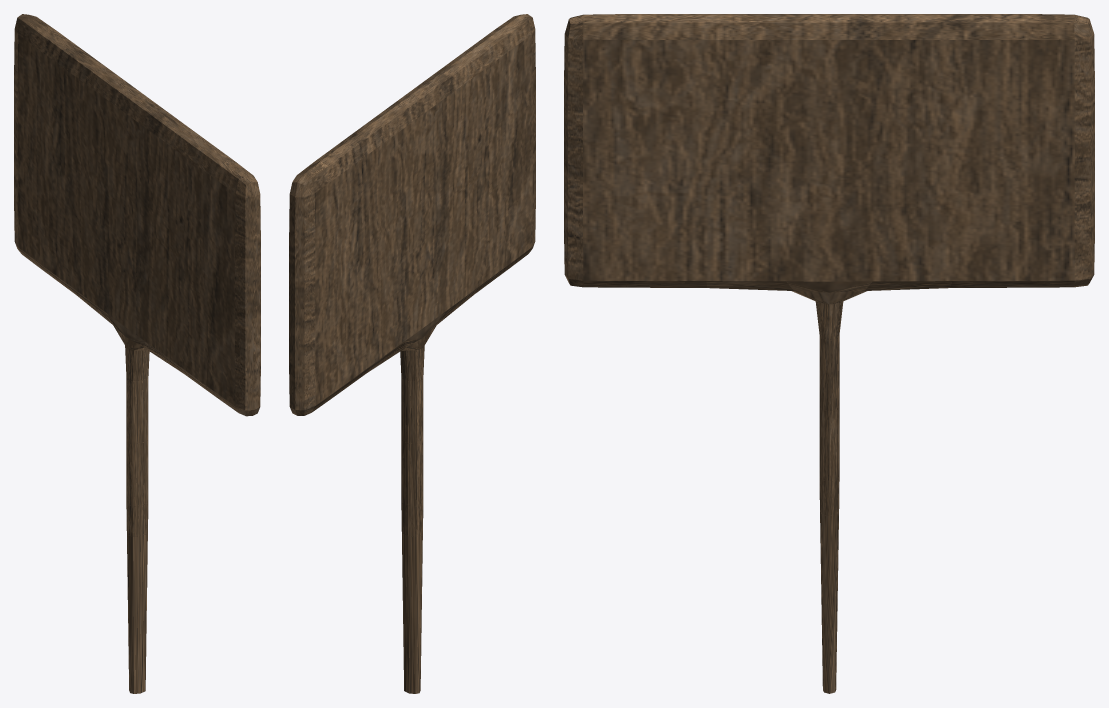
File: placa.glb
The picture shows the model from 3 angles, left to right: view 1: azimuth 30°, elevation 25°; view 2: azimuth 150°, elevation 25°; view 3: azimuth 270°, elevation 25°; orthographic projection. The views are drawn at different scales.
Parts seen in each view (by area): view 1: Cube; view 2: Cube; view 3: Cube.
Part boxes in pixels (x1,y1,x2,y2): Cube: (14,14,260,693); Cube: (289,14,535,693); Cube: (564,14,1094,693).
Bounding box in the file's own units: 0.1145 × 2.79 × 1.99.
1 material, 1 textured.
